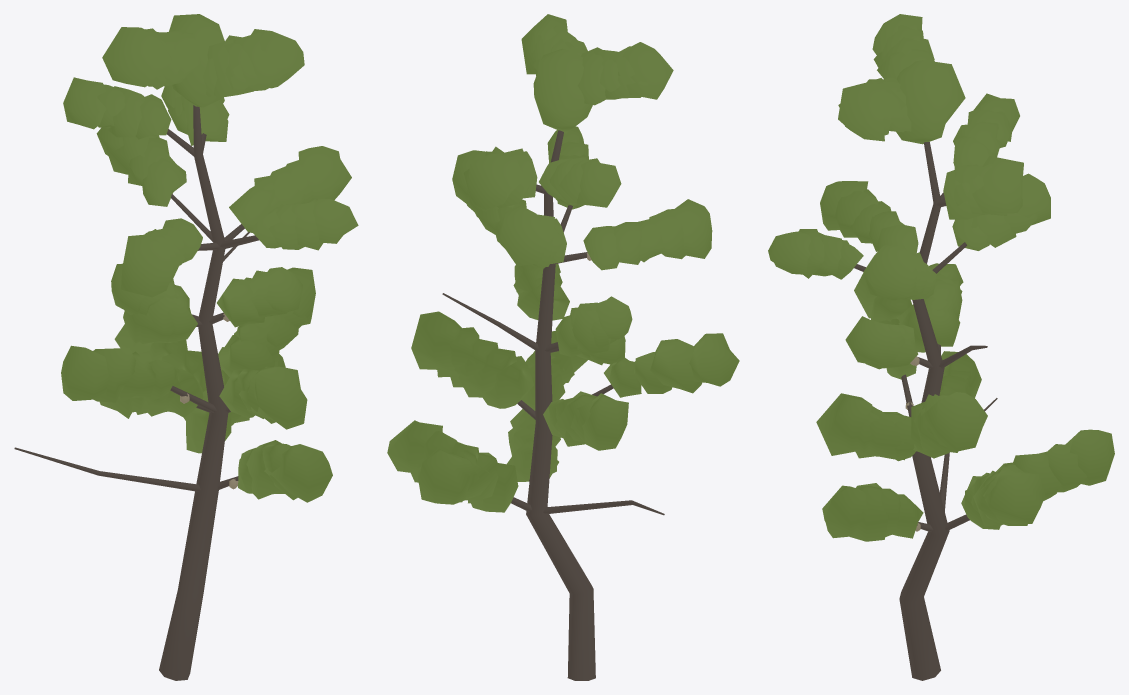
The model's file is Blender_JackPine_1.glb.
The picture shows the model from 3 angles, left to right: view 1: azimuth 30°, elevation 25°; view 2: azimuth 150°, elevation 25°; view 3: azimuth 270°, elevation 25°; orthographic projection. The views are drawn at different scales.
Visible parts, largest first — view 1: Blender_JackPine_1; view 2: Blender_JackPine_1; view 3: Blender_JackPine_1.
Boxes of the visible parts, x1=… form: Blender_JackPine_1: x1=14, y1=14, x2=358, y2=680; Blender_JackPine_1: x1=387, y1=14, x2=739, y2=680; Blender_JackPine_1: x1=768, y1=14, x2=1114, y2=680.
Size of the model in its own units: 6.91 by 15.06 by 7.43.
